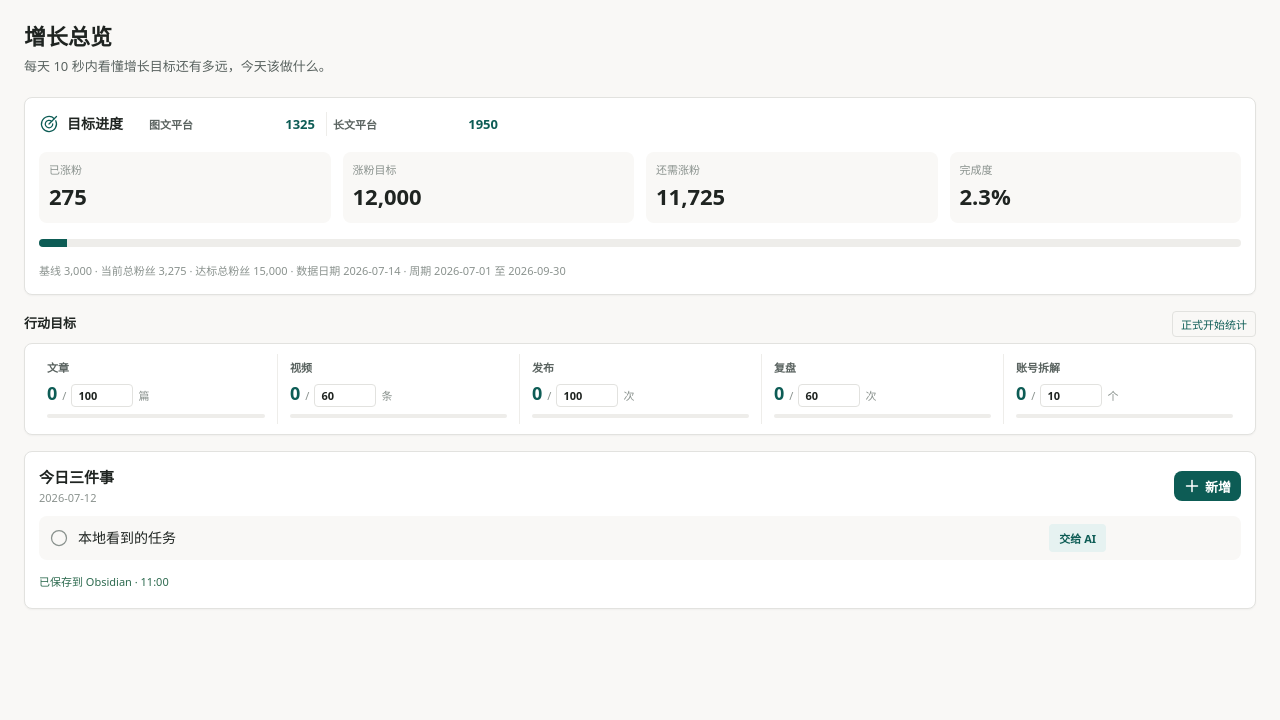
Scenario: 今日三件事双向同步 › 外部冲突时保留当前改动并可载入 Obsidian 版本
Check: the text "本地看到的任务" is shown, box [78,528,176,547]
What coordinates should you click on to do the following:
click the button named "将“本地看到的任务”标记为完成"
I would click on:
 (59, 538)
Its box is [48,528,70,548].
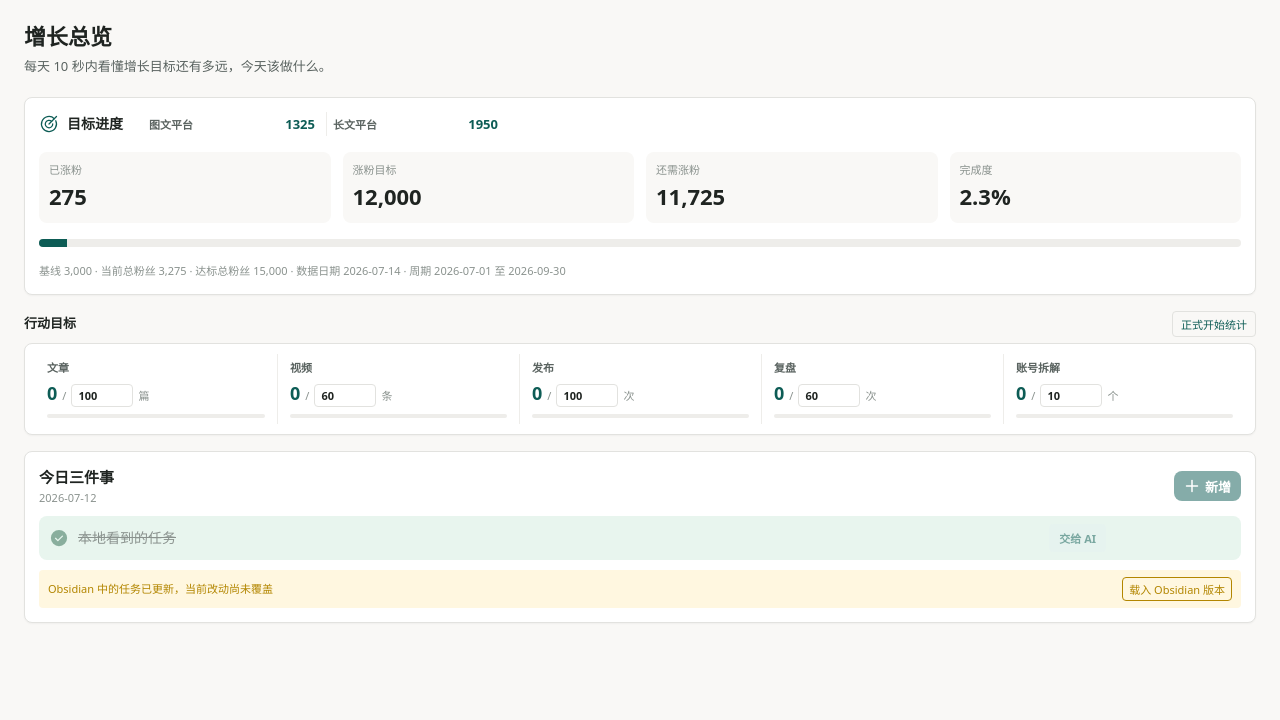
Check: the text "本地看到的任务" is shown, box [78,528,176,547]
Check: the message shows "当前改动尚未覆盖", box [48,581,273,596]
What coordinates should you click on to do the following:
click the button "载入 Obsidian 版本"
I would click on:
 (1177, 589)
Its box is [1122,577,1232,601].
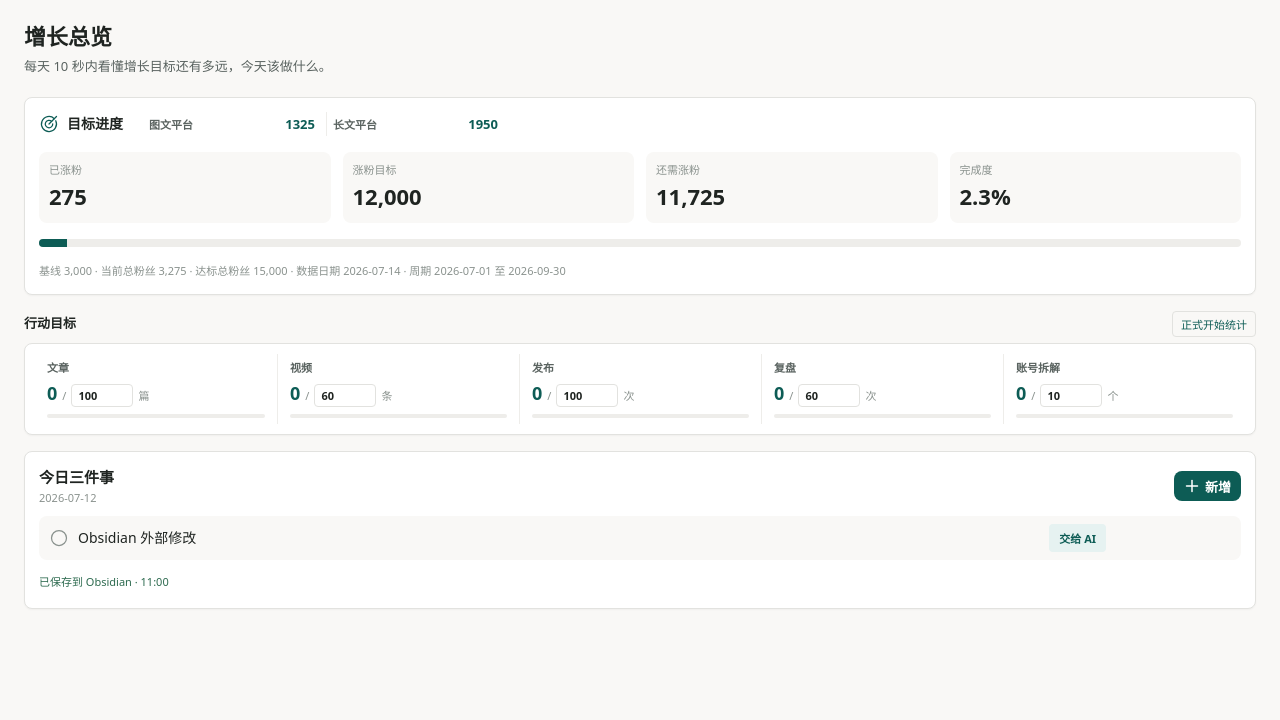
Check: the text "Obsidian 外部修改" is shown, box [78,528,196,547]
Check: the message shows "已保存到 Obsidian", box [39,574,169,589]
